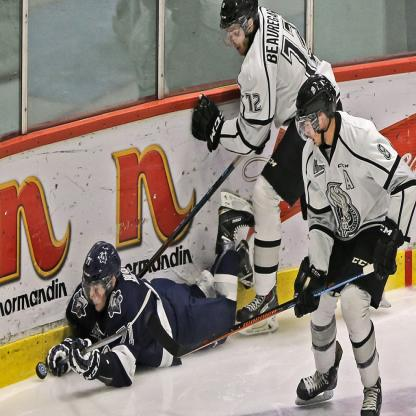Helmet: (299, 72, 340, 147), (81, 239, 120, 311), (222, 0, 260, 65)
